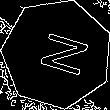N_W: (27, 27, 87, 81)
